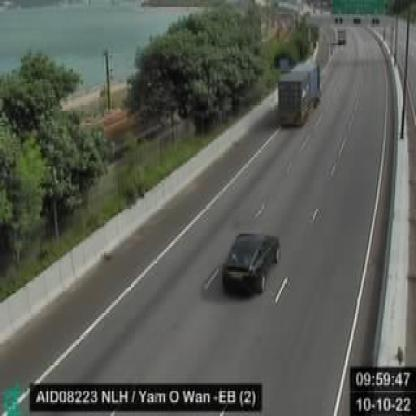Car: (219, 230, 278, 296)
Truck: (279, 60, 320, 125)
